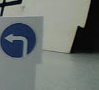left: (1, 23, 36, 58)
